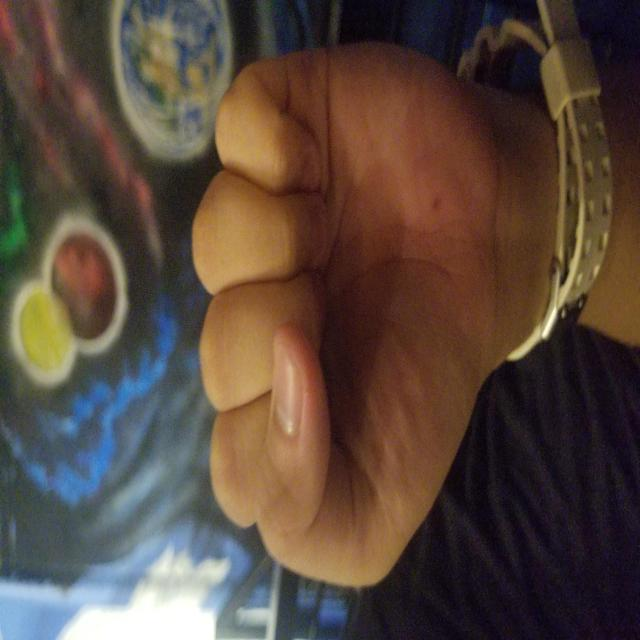S: (47, 192, 598, 470)
